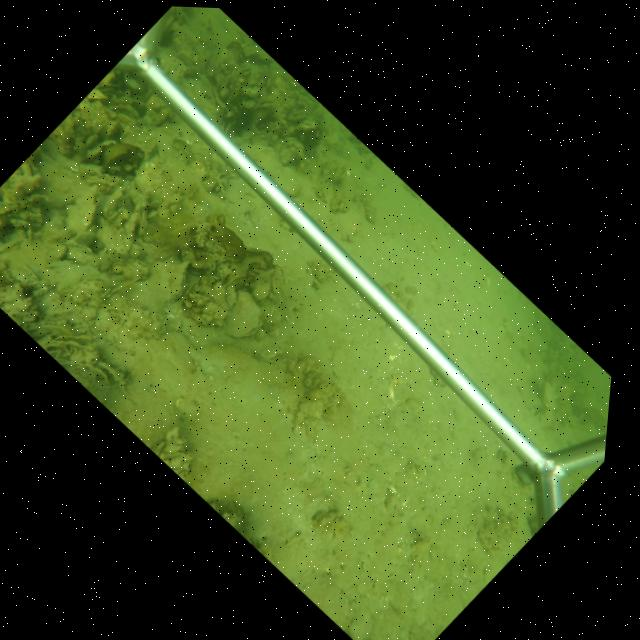Oyster-Closed: (221, 291, 263, 340), (154, 258, 188, 304), (271, 260, 286, 295)
Oyster-Indeterminate: (64, 188, 98, 232)
